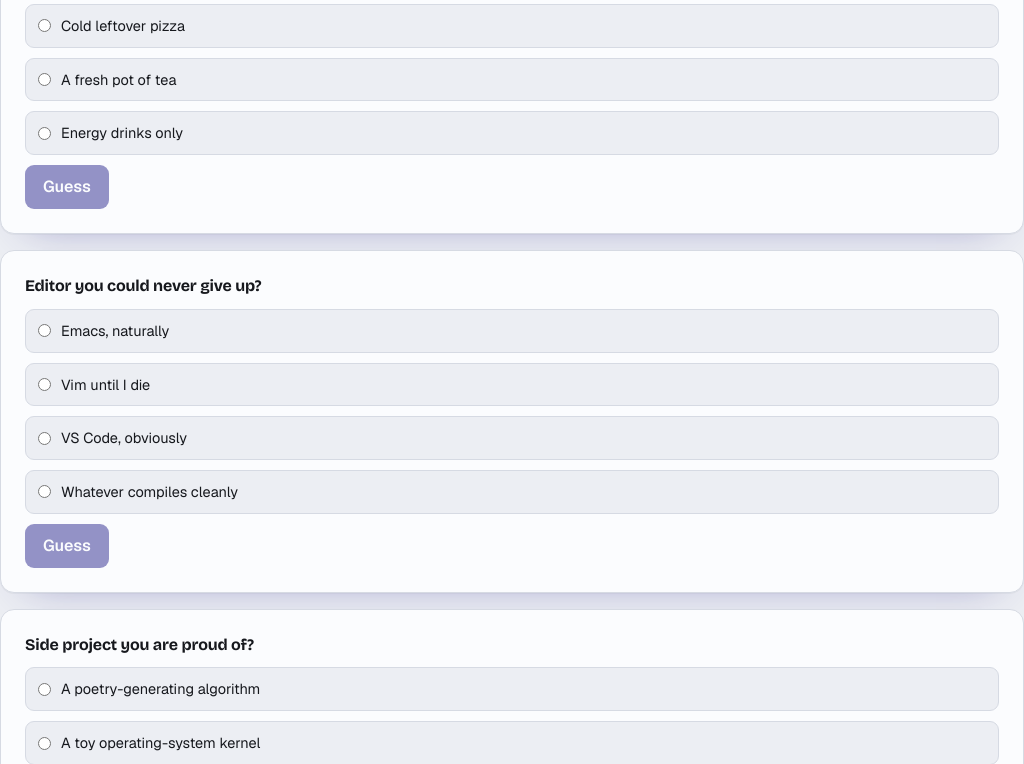
Scenario: GuessForm: failed guess › shows a role=alert error and keeps the question editable when the response is not ok
(page scrolled)
Click the radio button labelled "Vim until I die" at (44, 384), box left=38, top=378, right=51, bottom=391
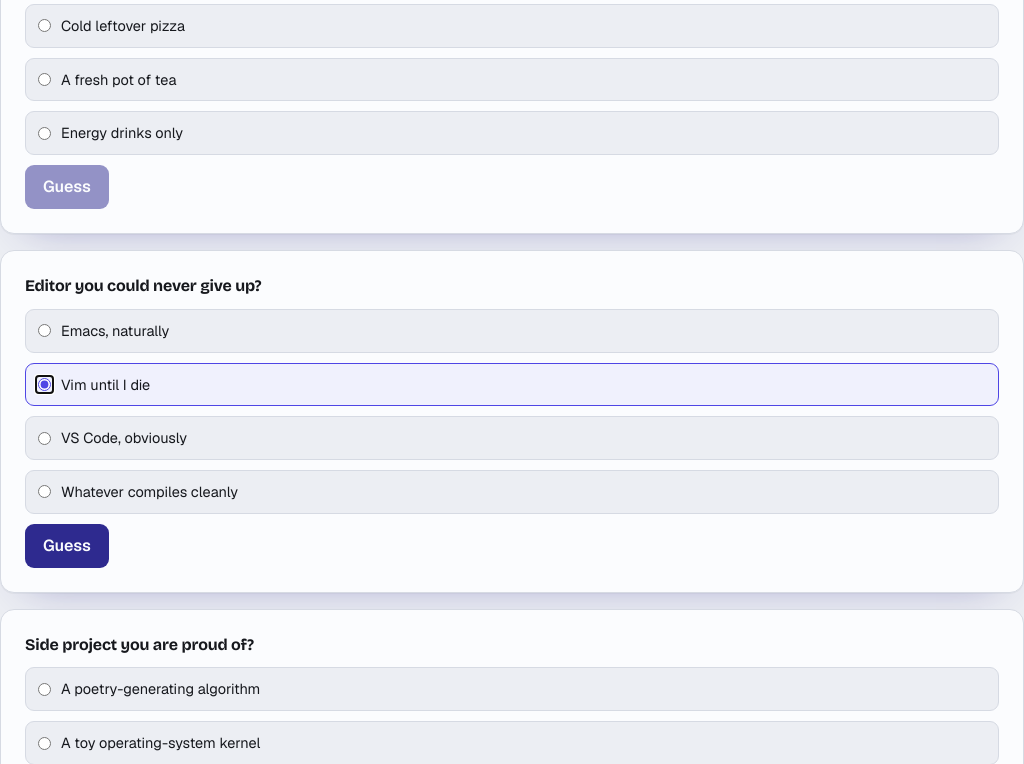
Note: The editor question is the third in the sheet.
Click the button "Guess" below "Whatever compiles cleanly" at (67, 546), box left=25, top=524, right=109, bottom=568
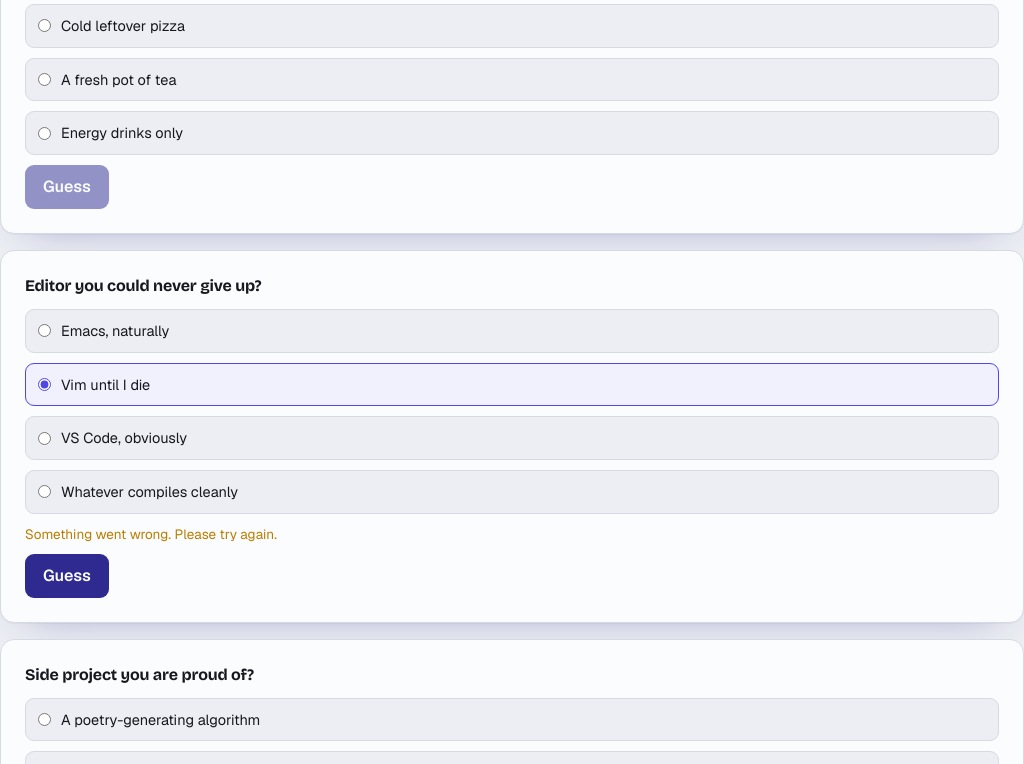
Expected: the radio button labelled "Vim until I die" is enabled, left=38, top=378, right=51, bottom=391
Expected: the message "Something went wrong. Please try again." is shown, left=25, top=525, right=277, bottom=543
